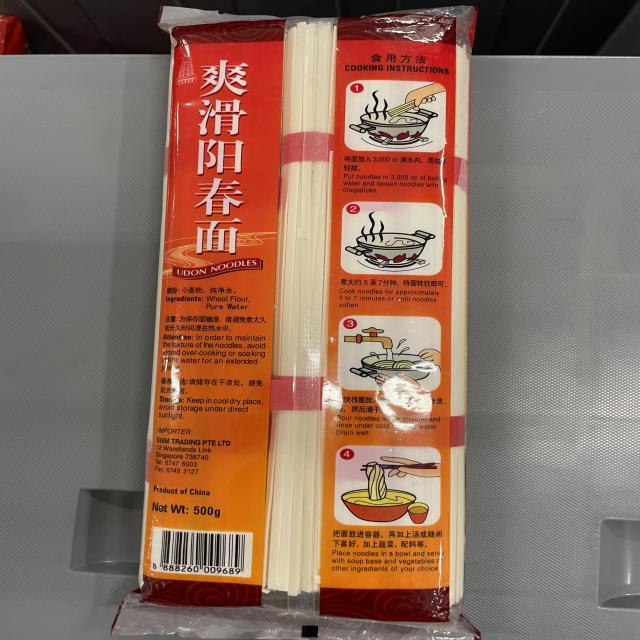object_name: (150, 16, 466, 611)
